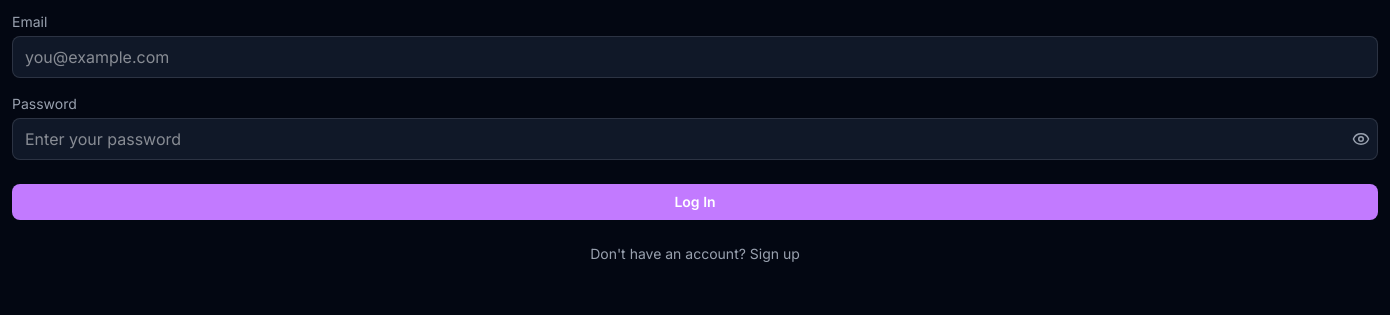
Test: LoginForm › displays success message on successful login
Step 1. Type "test@example.com" into the field labelled "Email" → (695, 57), box x1=12 y1=36 x2=1378 y2=78
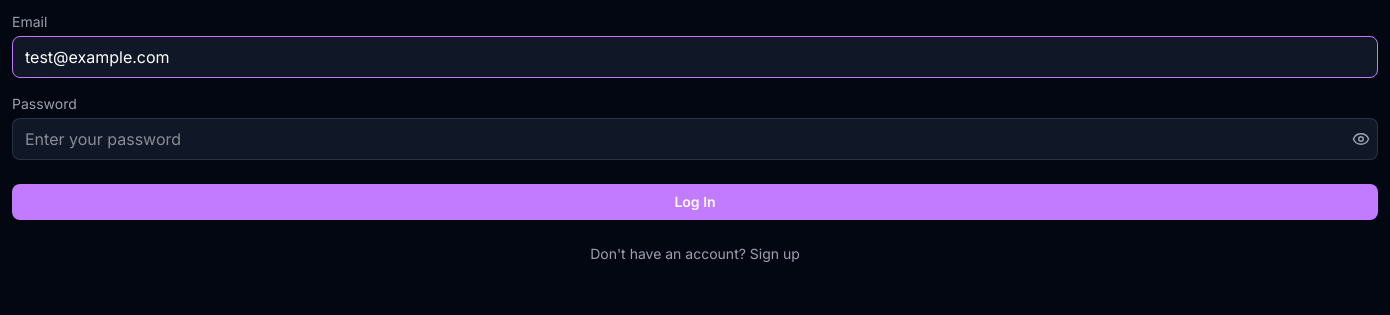
Step 2. Type "secret123" into the password field labelled "Password" → (695, 139), box x1=12 y1=118 x2=1378 y2=160
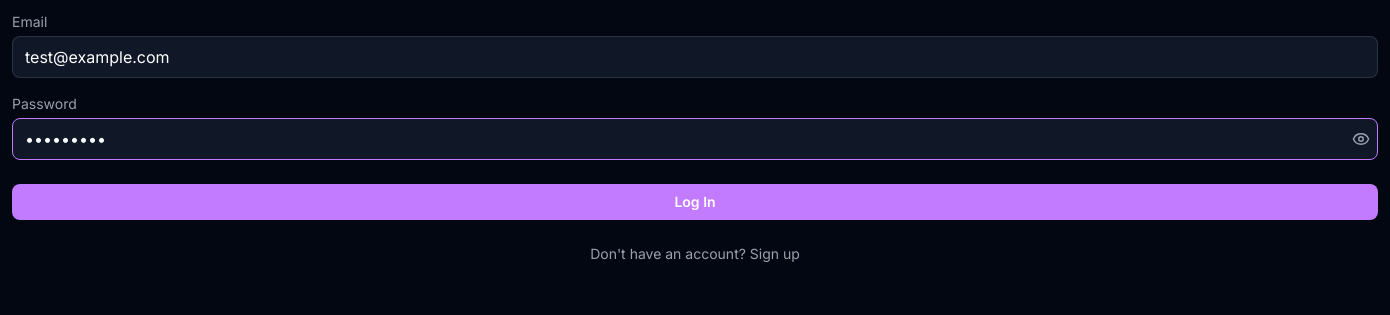
Step 3. Click the button "Log In" → (695, 202), box x1=12 y1=184 x2=1378 y2=220
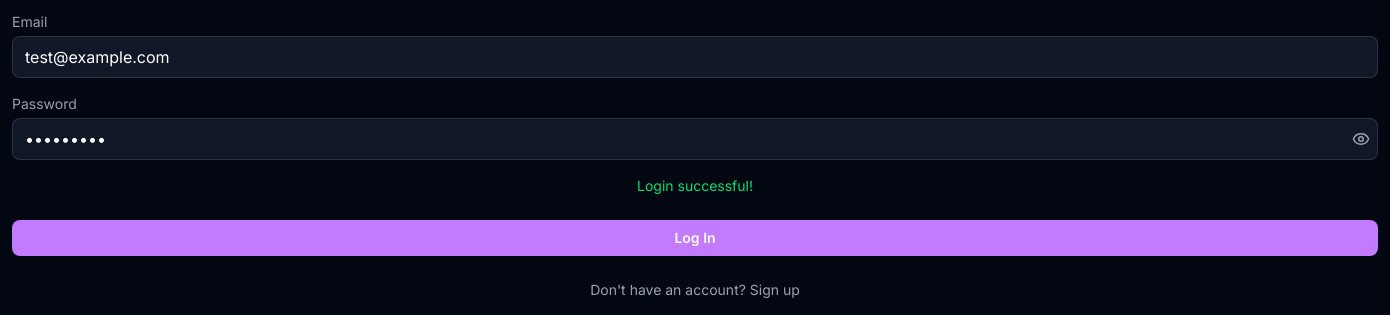
Now the message reads "Login successful!", box x1=637 y1=177 x2=753 y2=194
